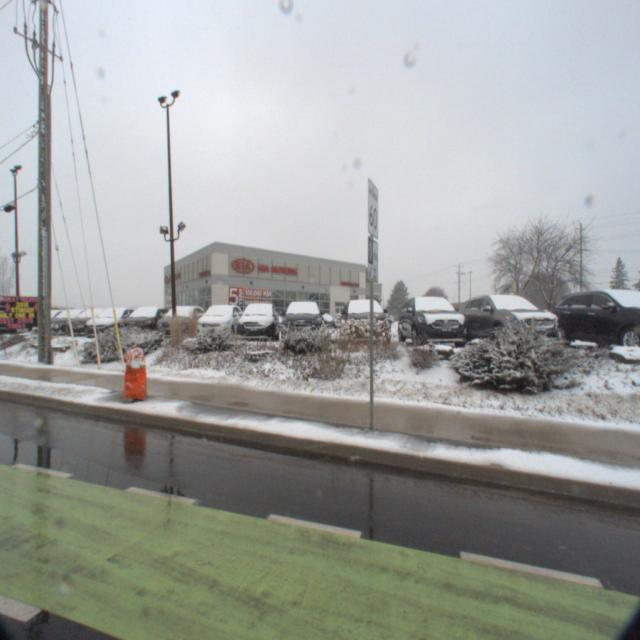Car: (452, 286, 567, 352), (392, 290, 472, 351), (338, 292, 394, 348), (110, 303, 176, 343), (75, 305, 144, 343), (230, 298, 283, 344), (277, 296, 325, 346), (189, 302, 246, 343), (148, 303, 209, 341), (56, 307, 122, 341), (32, 308, 100, 341), (307, 312, 339, 329)
